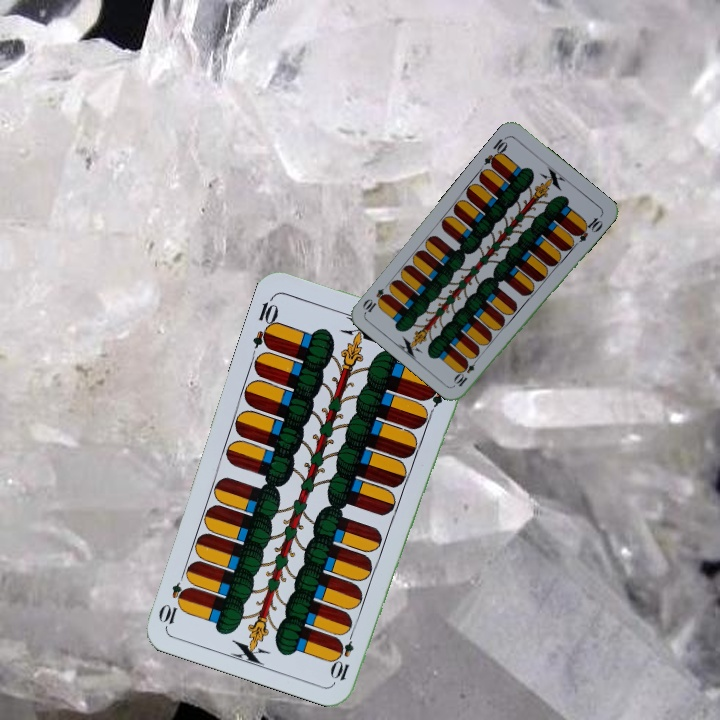E10: (249, 292, 281, 352), (329, 625, 357, 683), (480, 133, 511, 170), (450, 353, 481, 389)
